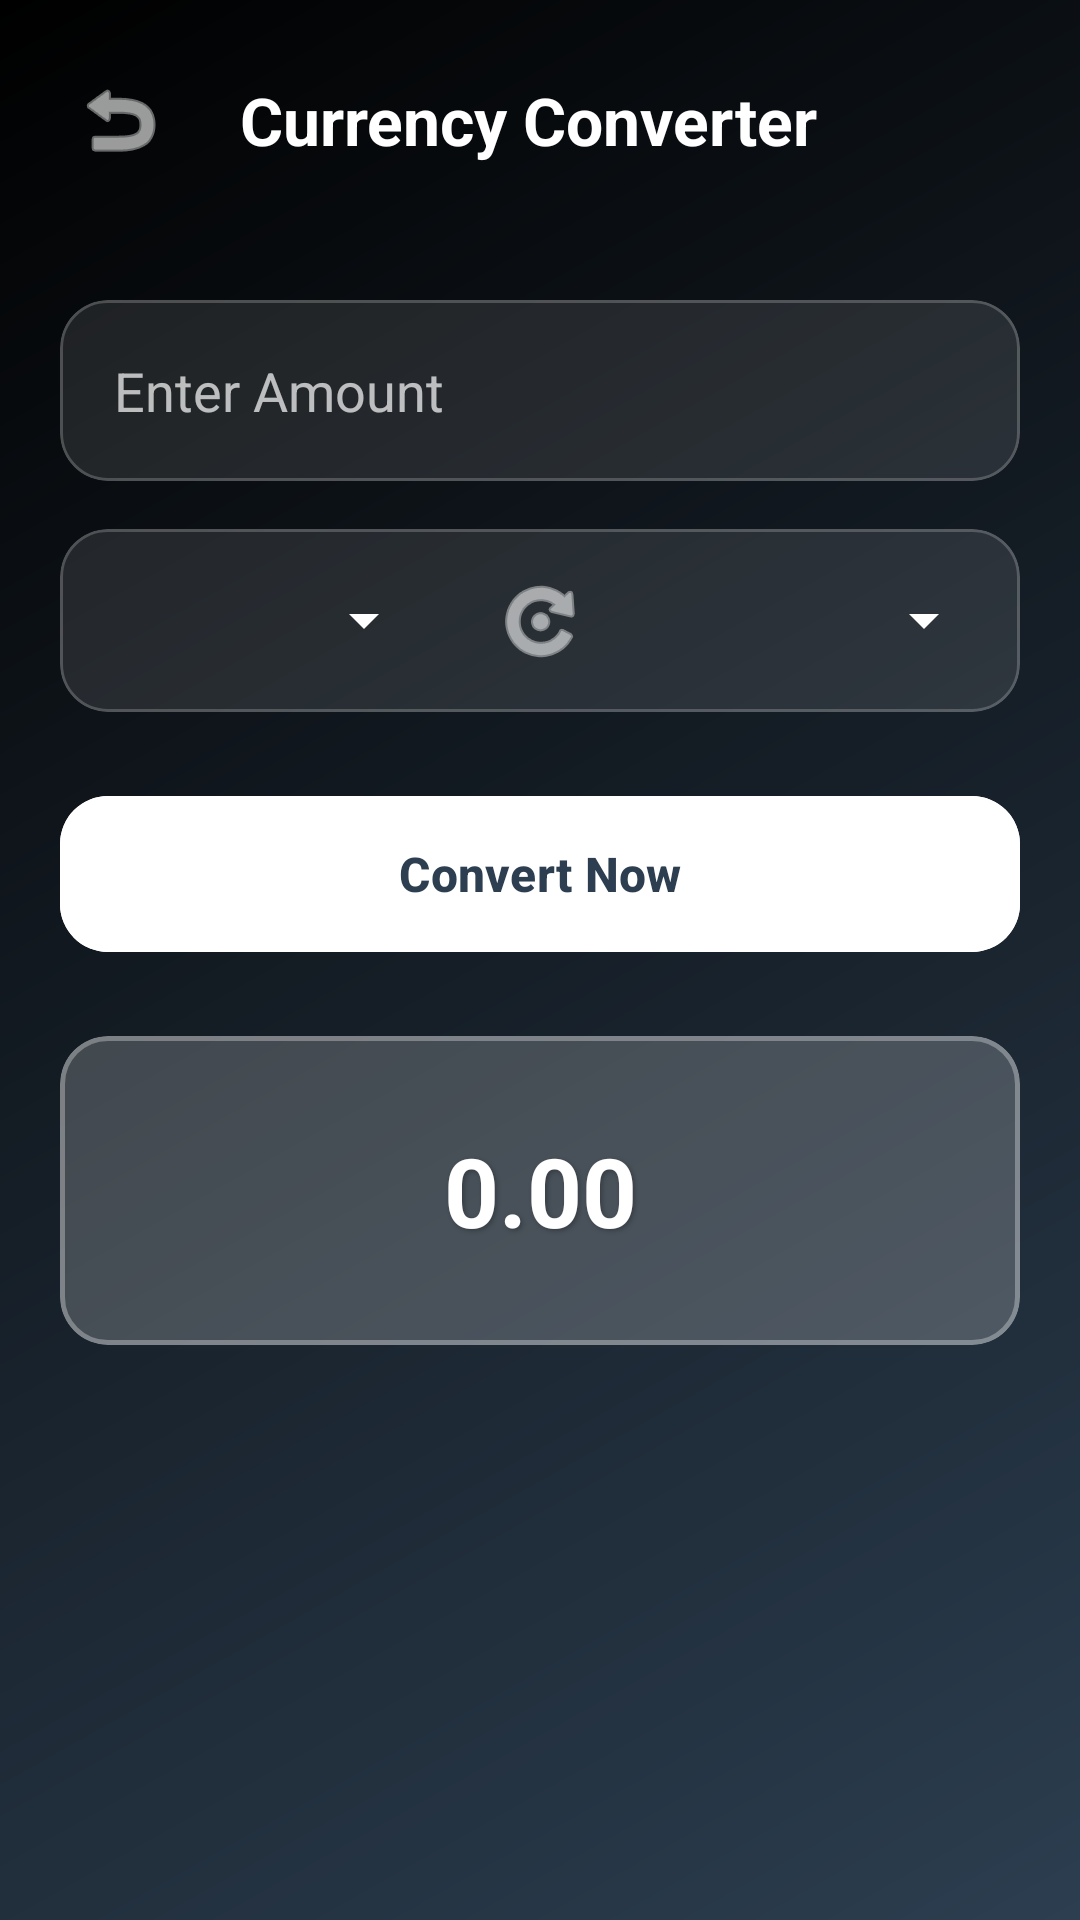

Named icons in this screenshot (1080px x 1920px) and their bounding boxes, (x1, y1, x2, y2):
revert: (87, 89, 156, 152)
rotate: (505, 586, 575, 657)
